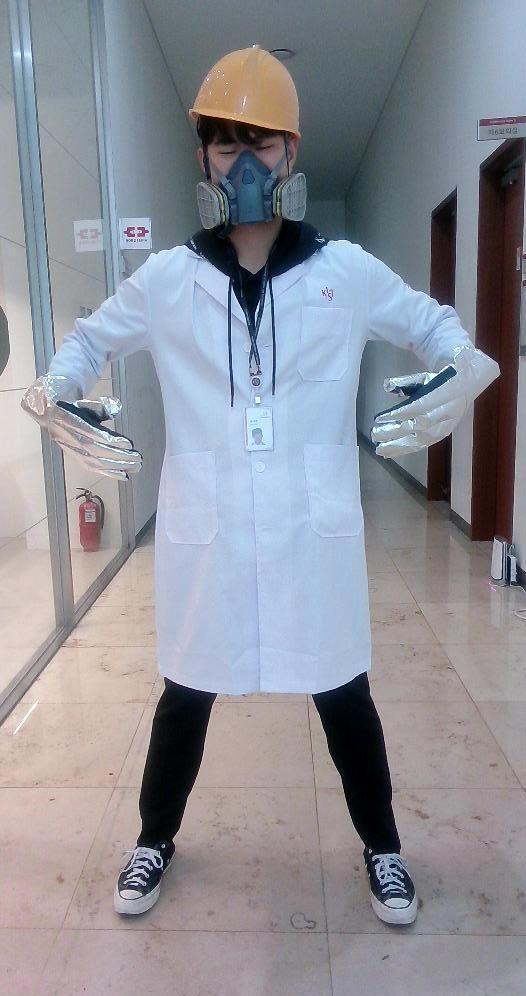lab_coat: (154, 258, 372, 681)
